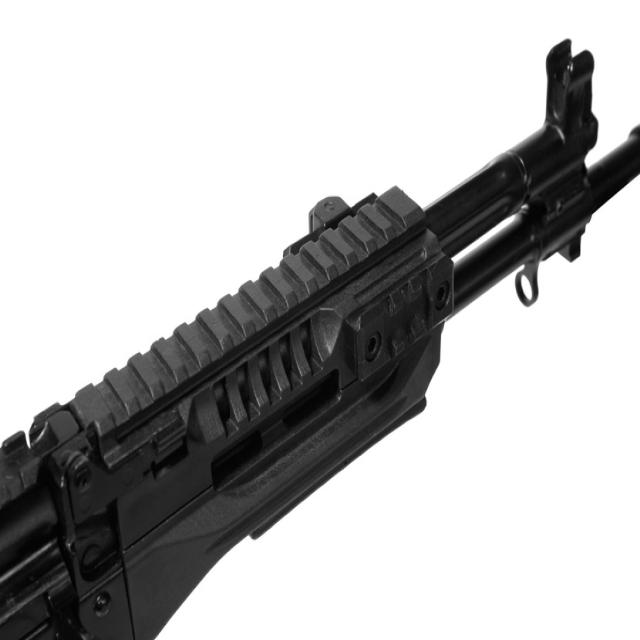firearm: (0, 39, 640, 640)
